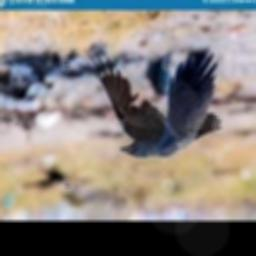Crow: (92, 48, 222, 159)
